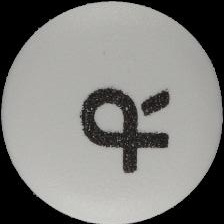66336-238: (0, 0, 224, 224)
